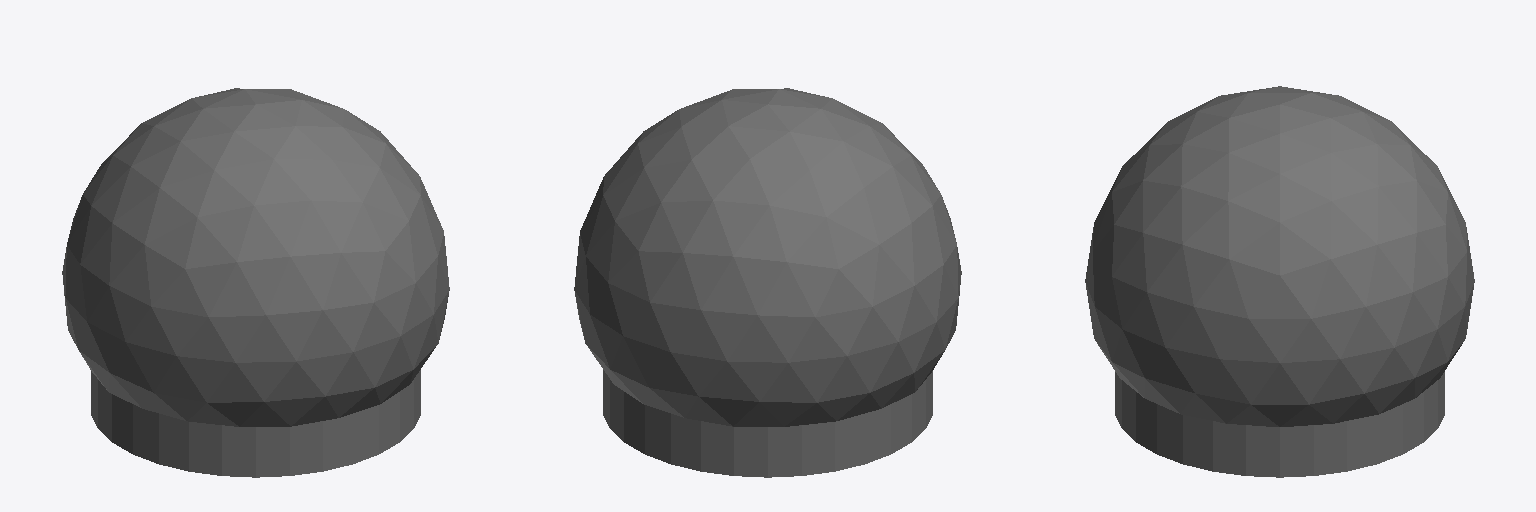
The model's file is dome.obj.
3 views of the same model, side by side, from view 1: azimuth 30°, elevation 25°; view 2: azimuth 150°, elevation 25°; view 3: azimuth 270°, elevation 25° (orthographic).
Bounding box in the file's own units: 126 × 108 × 126.